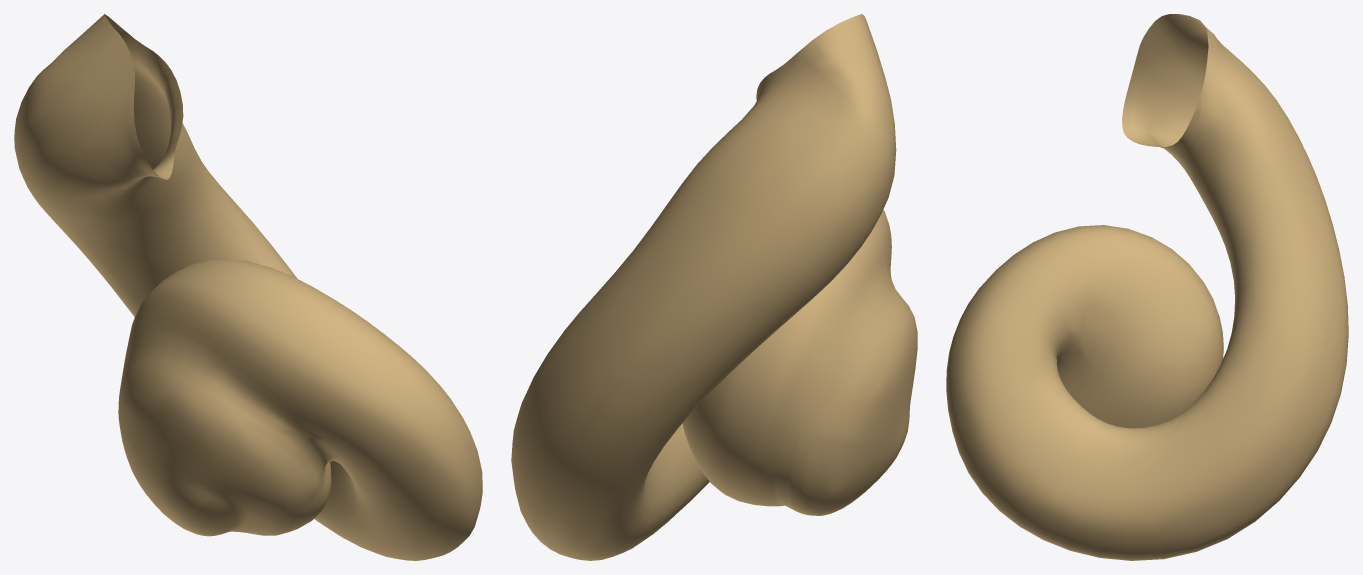
3 views of the same model, side by side, from view 1: azimuth 30°, elevation 25°; view 2: azimuth 150°, elevation 25°; view 3: azimuth 270°, elevation 25° (orthographic). The views are drawn at different scales.
Parts seen in each view (by area): view 1: 右侧耳蜗; view 2: 右侧耳蜗; view 3: 右侧耳蜗.
Boxes of the visible parts, x1,y1,x2,y2 form: 右侧耳蜗: (14,14,482,560); 右侧耳蜗: (511,14,917,560); 右侧耳蜗: (946,14,1348,560).
Bounding box in the file's own units: 0.00948 × 0.0145 × 0.0118.
